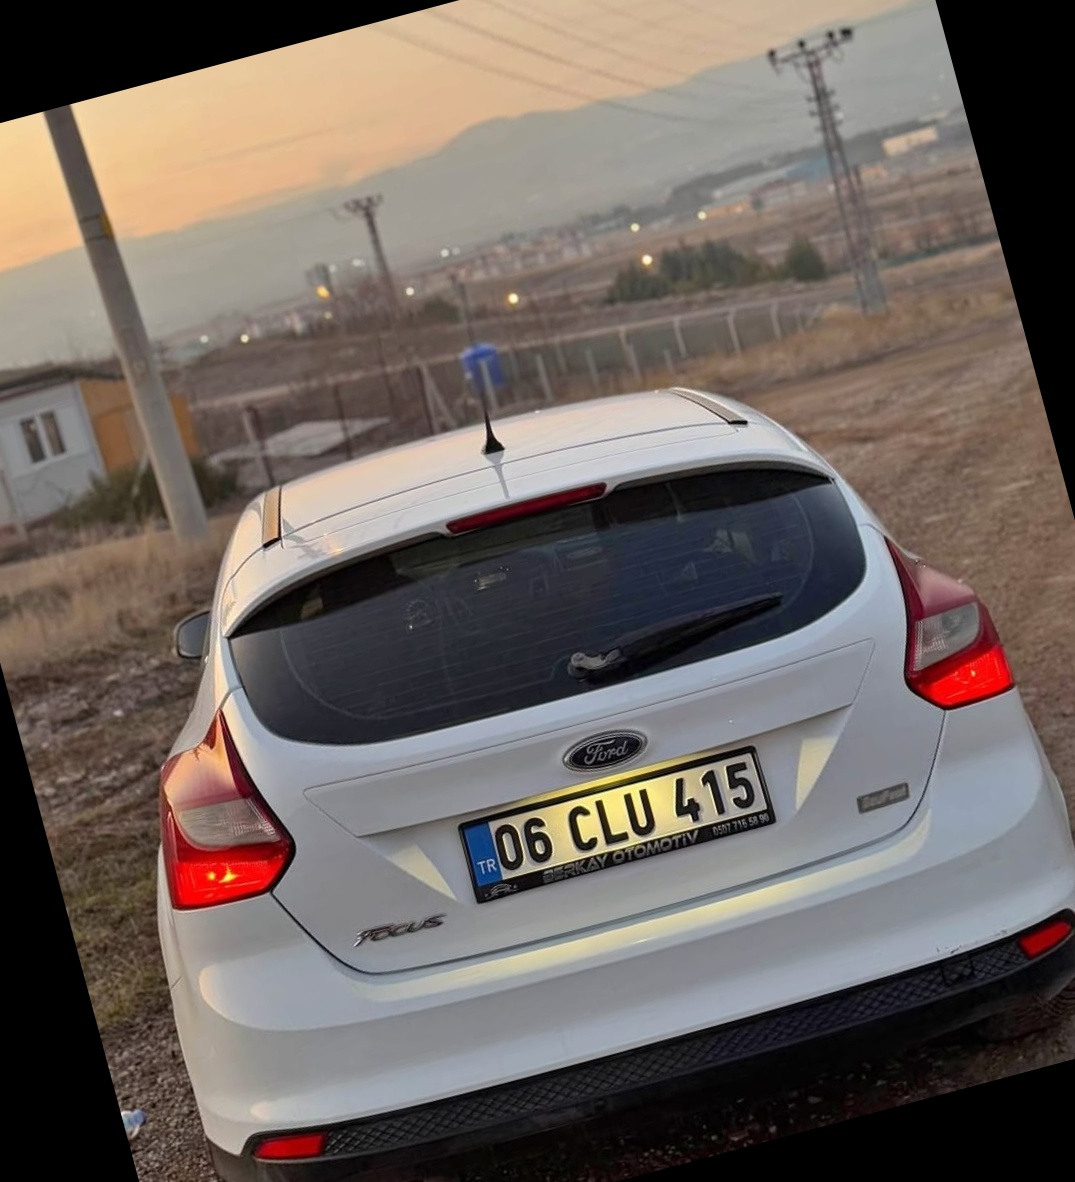plaka: (487, 761, 783, 882)
